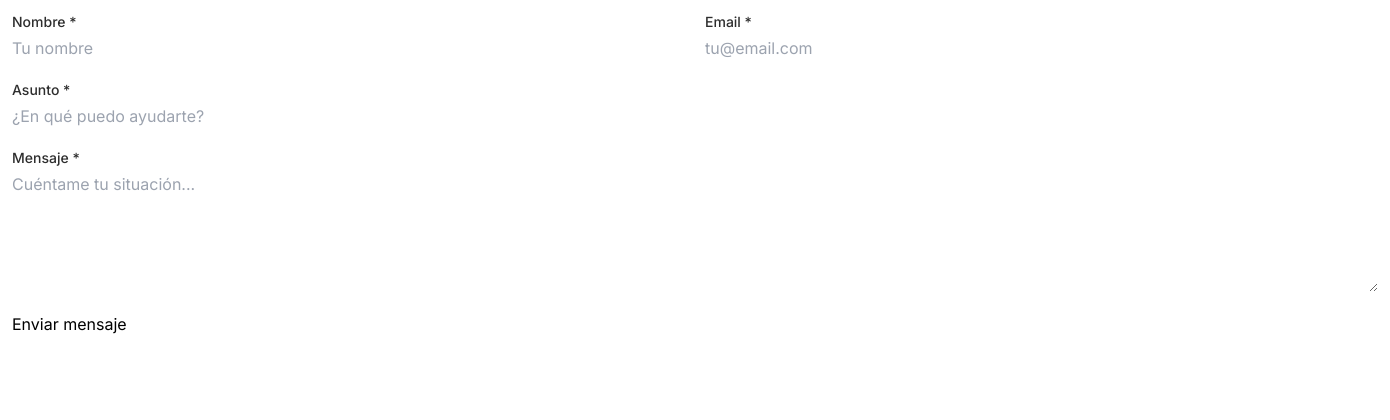
ContactForm › shows error banner on network error
Type "Ana García" into the field labelled "Nombre *" at (348, 48), box [12,36,685,60]
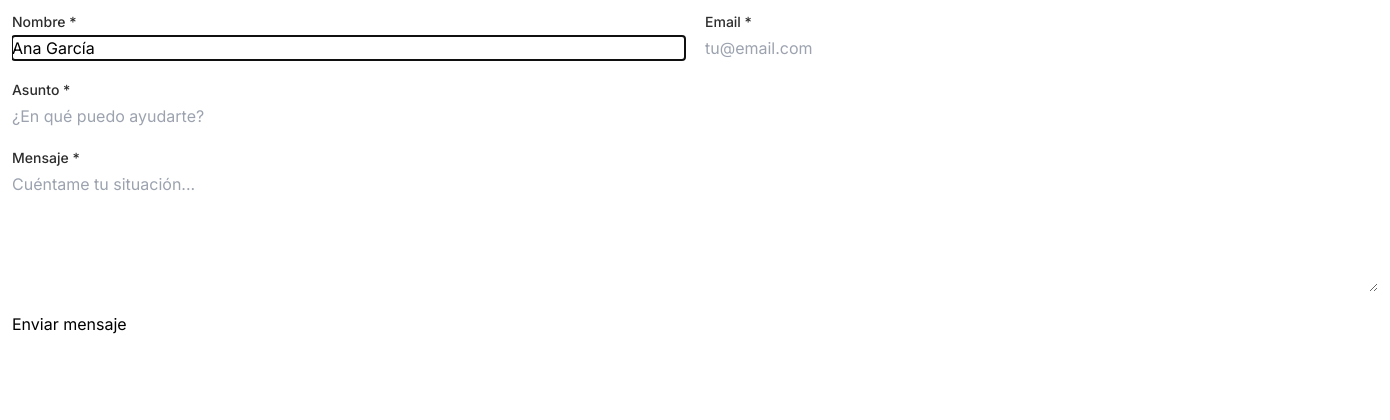
Type "ana@example.com" into the field labelled "Email *" at (1042, 48), box [705,36,1378,60]
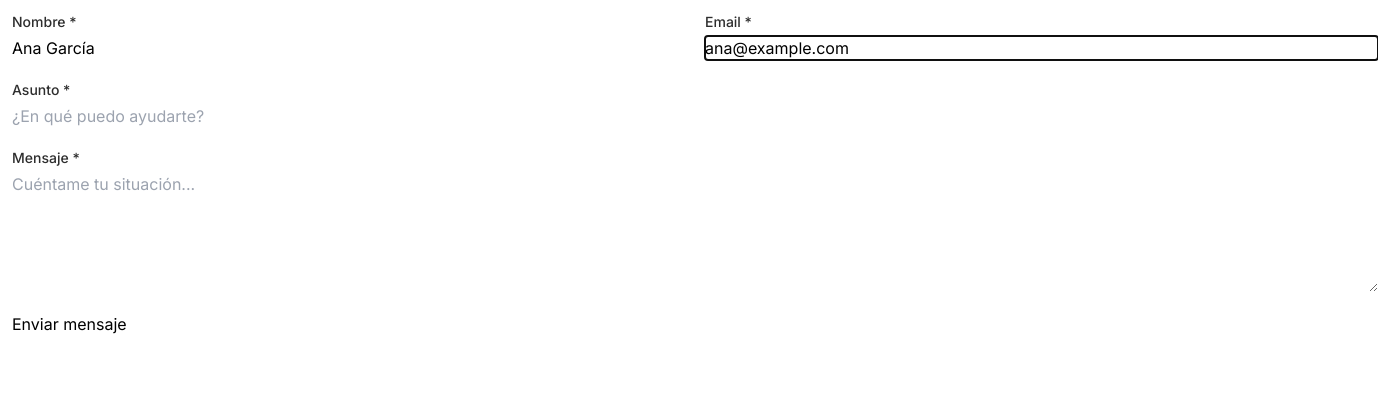
Type "Consulta" into the field labelled "Asunto *" at (695, 116), box [12,104,1378,128]
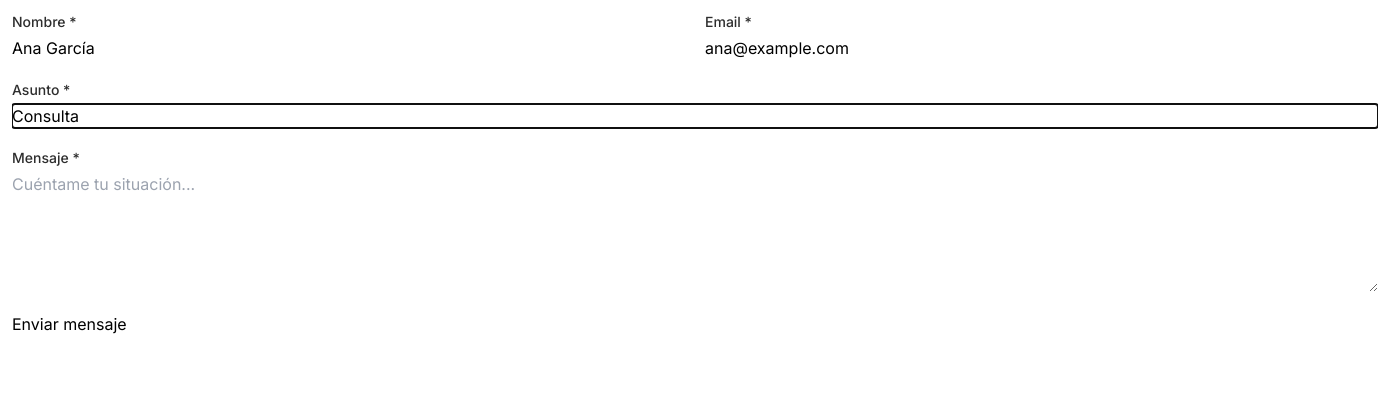
Type "Hola, me gustaría saber más." into the text box labelled "Mensaje *" at (695, 232), box [12,172,1378,292]
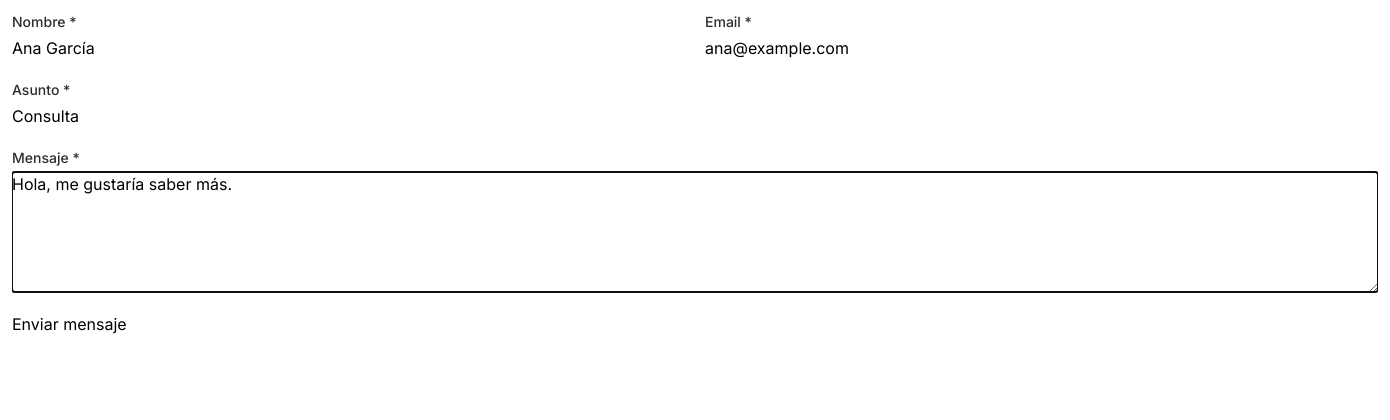
Click the button "Enviar mensaje" at (69, 324), box [12,312,127,336]
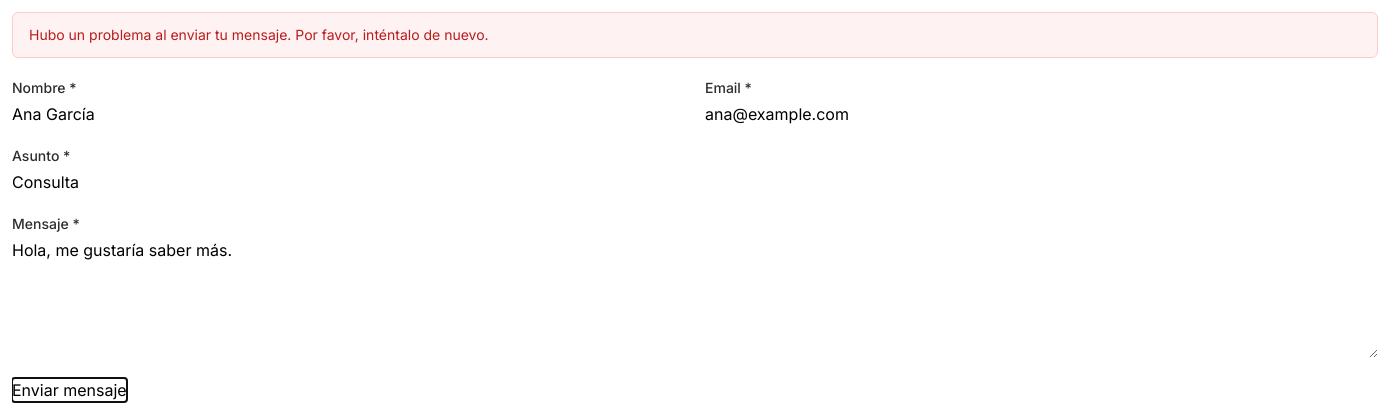
Expected: the message "Hubo un problema al enviar tu mensaje. Por favor, inténtalo de nuevo." is shown, [12,12,1378,58]
